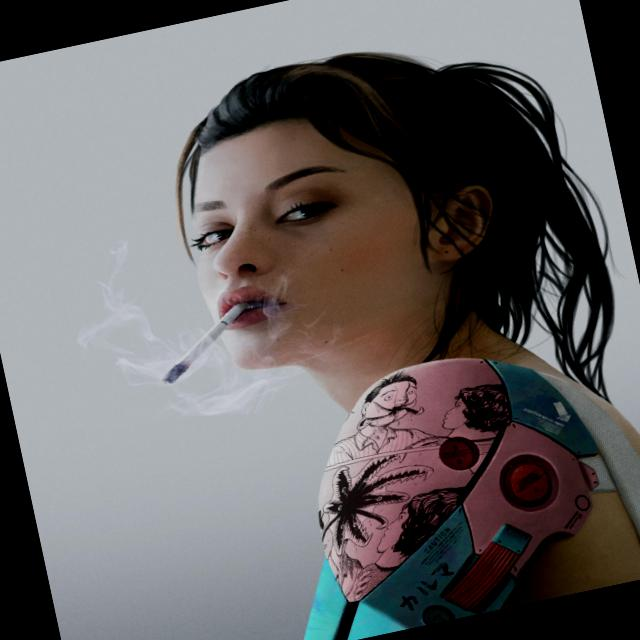smoke: (107, 271, 306, 410)
